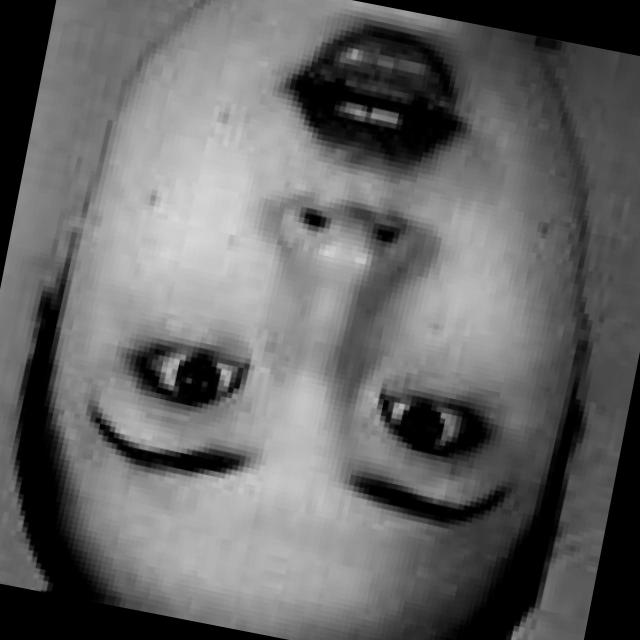surprise: (8, 0, 632, 638)
